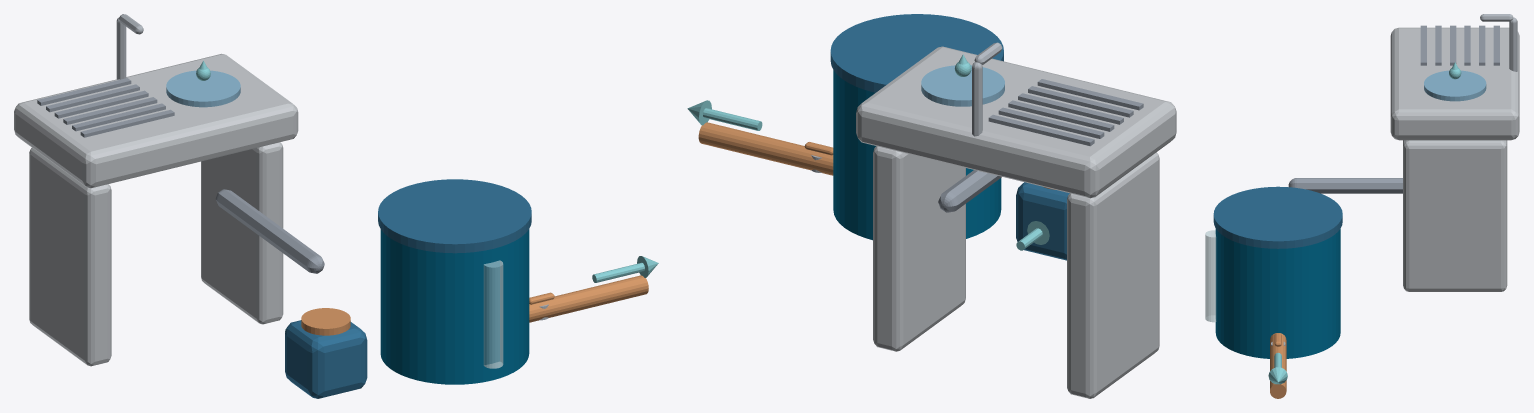
3 renders of one model, left to right at view 1: azimuth 30°, elevation 25°; view 2: azimuth 150°, elevation 25°; view 3: azimuth 270°, elevation 25°, orthographic. The views are drawn at different scales.
Parts seen in each view (by area): view 1: part_pileta, part_deposito, part_trampa, part_salida_reuso, part_desague, part_deposito_nivel, part_trampa_tapa, deco_flujo, deco_llave; view 2: part_pileta, part_deposito, part_salida_reuso, part_trampa, deco_flujo, part_desague, deco_llave; view 3: part_pileta, part_deposito, part_desague, part_deposito_nivel, part_salida_reuso, deco_llave, deco_flujo.
Boxes of the visible parts, x1,y1,x2,y2 form: part_pileta: (14, 53, 298, 366); part_deposito: (378, 179, 531, 384); part_trampa: (285, 320, 367, 398); part_salida_reuso: (529, 275, 648, 322); part_desague: (215, 189, 324, 273); part_deposito_nivel: (483, 260, 503, 368); part_trampa_tapa: (301, 308, 350, 335); deco_flujo: (196, 60, 658, 331); deco_llave: (116, 14, 143, 79); part_pileta: (856, 46, 1176, 398); part_deposito: (830, 14, 1003, 240); part_salida_reuso: (698, 122, 833, 175); part_trampa: (1016, 182, 1069, 260); deco_flujo: (687, 54, 1049, 250); part_desague: (938, 170, 1001, 212); deco_llave: (972, 42, 1002, 136); part_pileta: (1390, 25, 1519, 291); part_deposito: (1213, 186, 1342, 358); part_desague: (1288, 178, 1402, 193); part_deposito_nivel: (1205, 230, 1216, 322); part_salida_reuso: (1270, 333, 1286, 398); deco_llave: (1480, 14, 1517, 71); deco_flujo: (1268, 62, 1461, 384).
Bounding box in the file's own units: 2.35 × 1.27 × 1.51.
